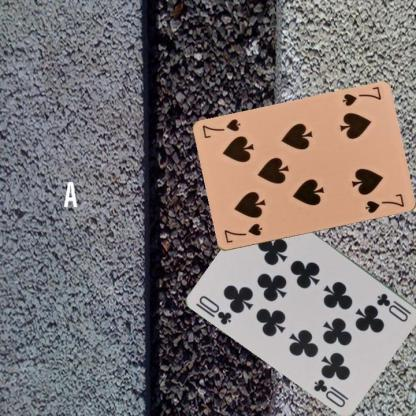10c: (374, 290, 413, 323), (197, 293, 234, 326)
7s: (339, 84, 383, 108), (221, 221, 264, 245)
